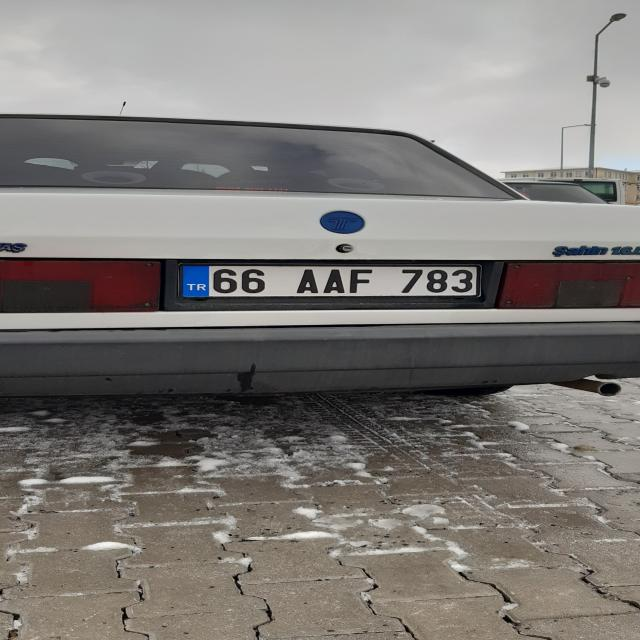plate: (178, 264, 480, 297)
